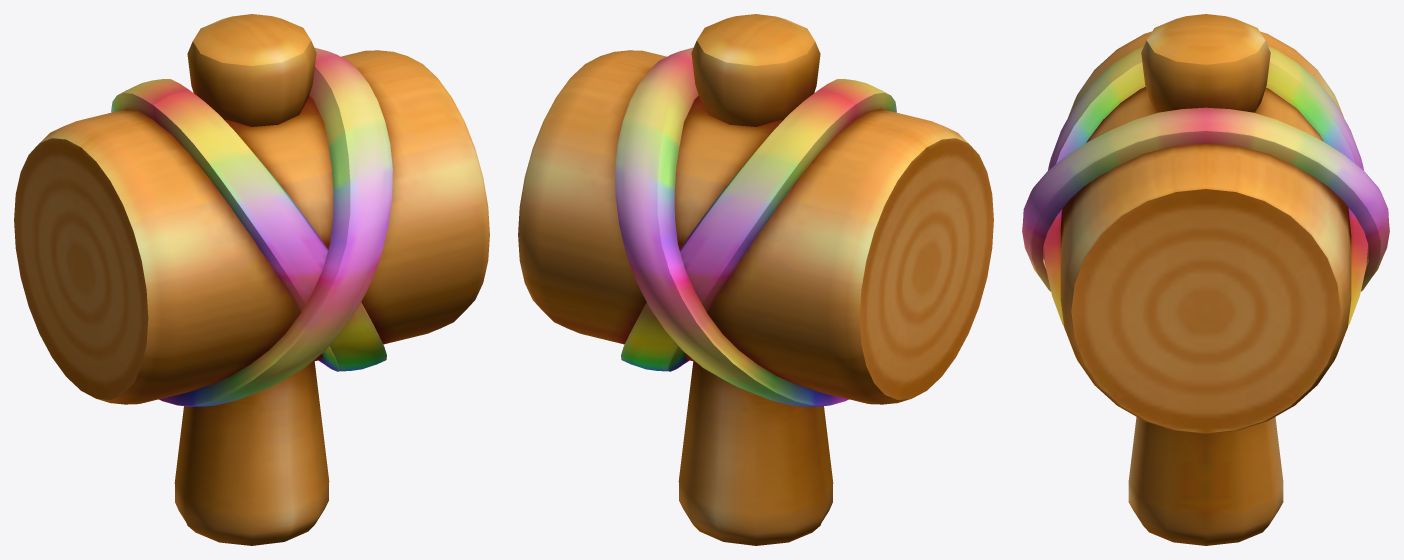
File: BlockHammer.obj
3 views of the same model, side by side, from view 1: azimuth 30°, elevation 25°; view 2: azimuth 150°, elevation 25°; view 3: azimuth 270°, elevation 25° (orthographic).
Parts seen in each view (by area): view 1: BlockHammer; view 2: BlockHammer; view 3: BlockHammer.
Part boxes in pixels (bbox=[...]): BlockHammer: bbox=[14, 14, 489, 545]; BlockHammer: bbox=[518, 14, 993, 545]; BlockHammer: bbox=[1022, 14, 1389, 545].
Bounding box in the file's own units: 1.78 × 2.51 × 1.65.
1 material, 1 textured.
